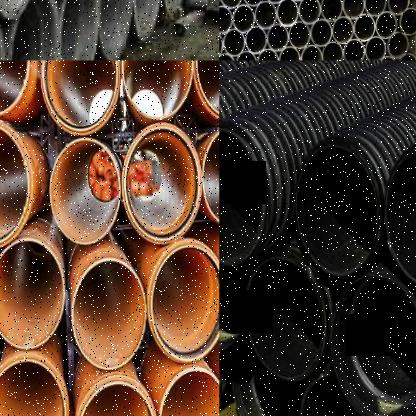pipe: (331, 274, 416, 416), (296, 140, 380, 279), (246, 256, 327, 382), (122, 122, 202, 244), (71, 258, 147, 370), (150, 245, 219, 362), (49, 138, 120, 245), (0, 239, 65, 349), (220, 127, 264, 266), (41, 61, 118, 132), (385, 142, 416, 291), (121, 60, 194, 120), (0, 358, 66, 416), (0, 121, 30, 247), (219, 232, 248, 350), (6, 0, 61, 60), (159, 369, 219, 416), (77, 381, 156, 416), (57, 0, 102, 60), (99, 0, 137, 60), (202, 124, 219, 228), (0, 60, 28, 116), (132, 0, 163, 41), (232, 3, 256, 33), (332, 15, 355, 45), (160, 0, 189, 23), (223, 28, 246, 57), (289, 20, 311, 50), (375, 11, 399, 38), (310, 19, 333, 47), (255, 0, 277, 29), (267, 23, 289, 52), (276, 0, 299, 27), (245, 26, 267, 54), (354, 13, 376, 41), (298, 0, 322, 25), (387, 32, 409, 58), (365, 35, 386, 60), (398, 7, 416, 34), (321, 0, 343, 22), (343, 38, 365, 60), (219, 4, 233, 34), (322, 40, 343, 60), (342, 0, 364, 18), (300, 43, 323, 60), (363, 0, 387, 16), (279, 45, 301, 61), (257, 47, 279, 61), (387, 0, 409, 14), (236, 50, 257, 61), (219, 0, 243, 9), (397, 52, 416, 60), (219, 52, 236, 60), (242, 0, 264, 6), (264, 0, 287, 3)
